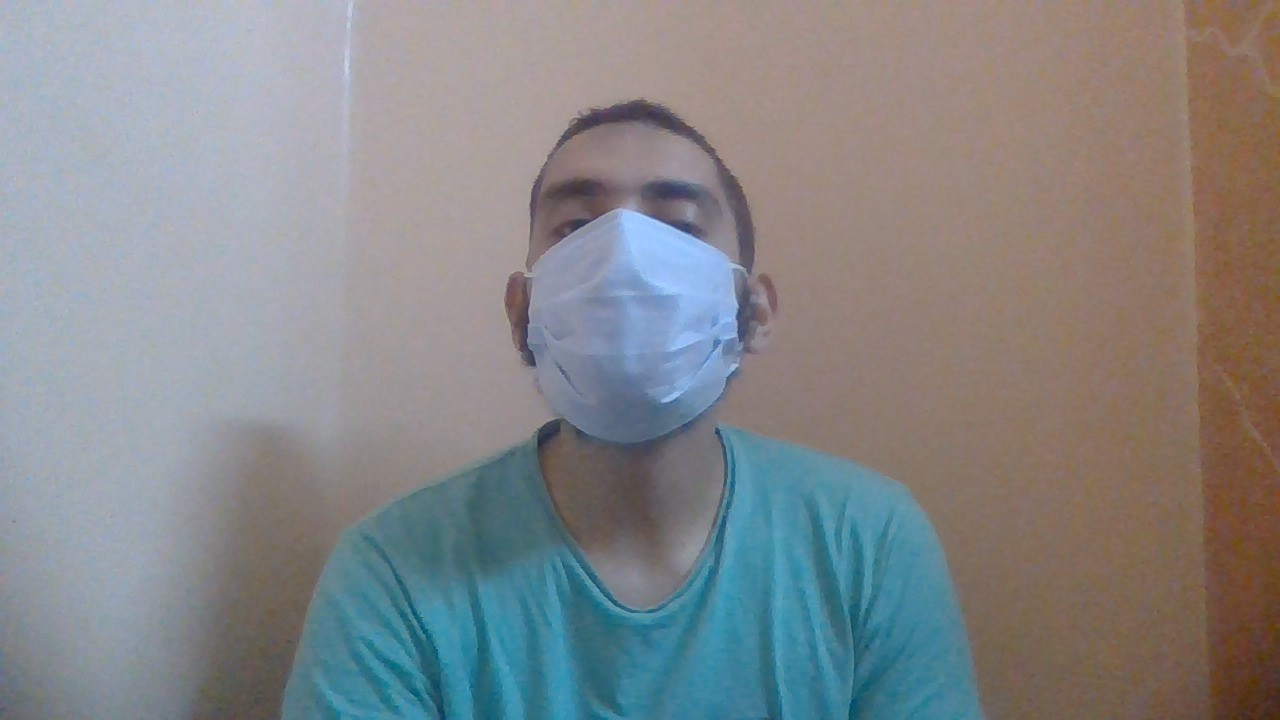mask: (525, 208, 743, 442)
